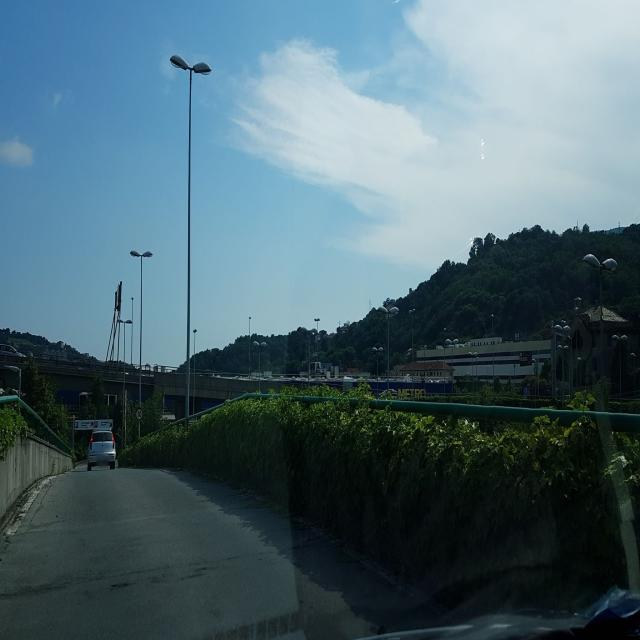car: (86, 427, 116, 471)
